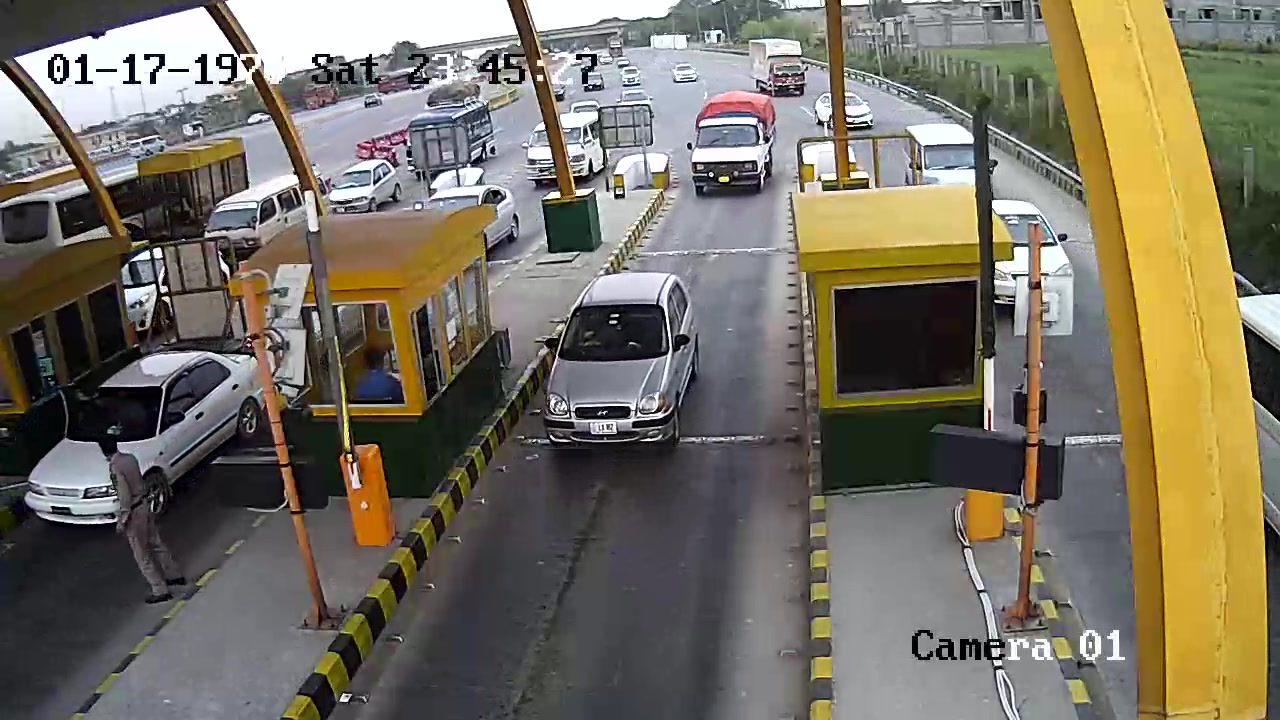F1: (532, 268, 712, 457)
